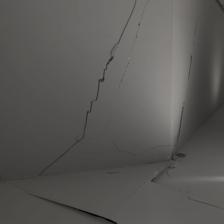Medium: (36, 9, 157, 156)
